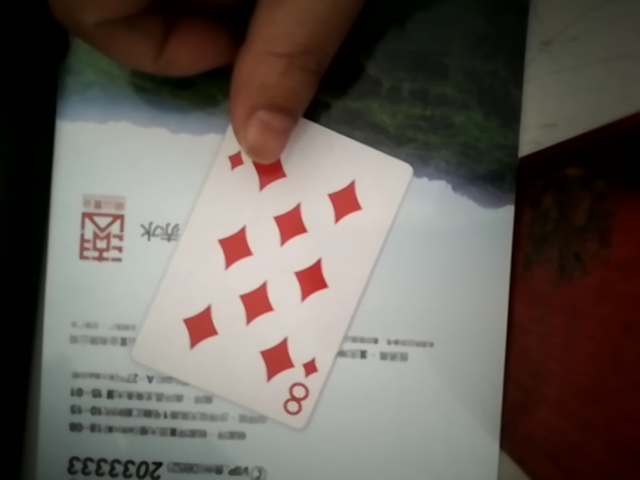fk 8: (135, 114, 406, 426)
